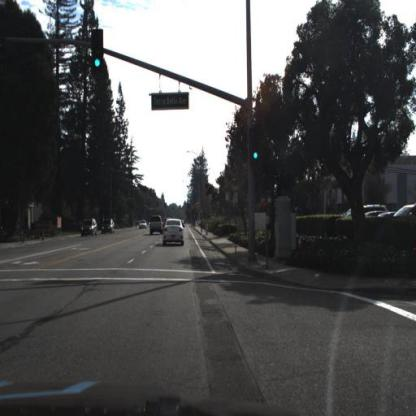car: (341, 202, 392, 225), (337, 202, 388, 218), (163, 219, 185, 247), (80, 218, 98, 239), (80, 221, 98, 240), (149, 215, 163, 237), (103, 219, 117, 236), (101, 220, 115, 235), (161, 216, 173, 230), (139, 220, 149, 234), (179, 218, 188, 231), (139, 221, 147, 232)
trafficLight-Green: (249, 124, 263, 168), (251, 126, 264, 166)
